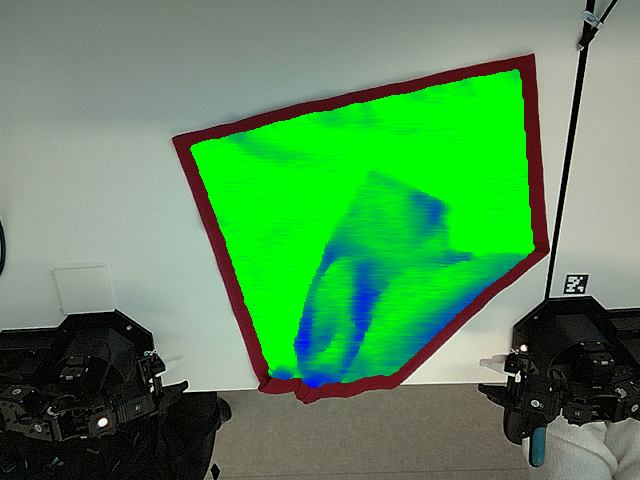V: (356, 160, 392, 197)
